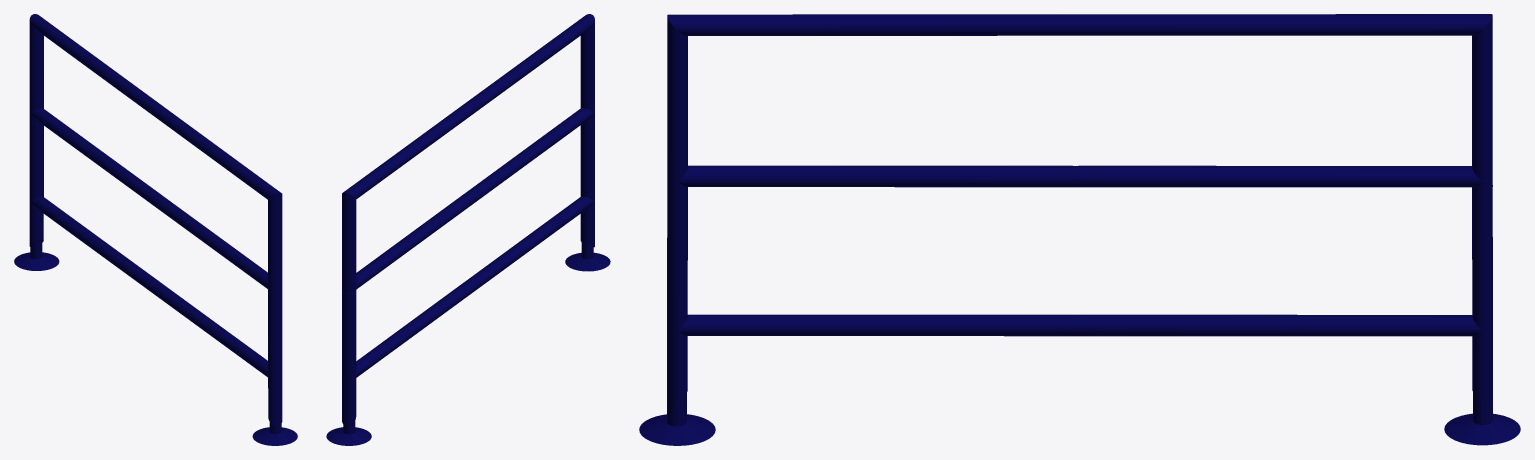
File: GradeMaquinaCartao2.obj
3 views of the same model, side by side, from view 1: azimuth 30°, elevation 25°; view 2: azimuth 150°, elevation 25°; view 3: azimuth 270°, elevation 25° (orthographic). The views are drawn at different scales.
Parts seen in each view (by area): view 1: Mesh.495_Mesh.029_Cylinder.002, Mesh.441_Mesh.029_Cylinder.001, Mesh.371_Mesh.063_Cylinder.002, Mesh.489_Mesh.050_Cylinder.001, Mesh.493_Mesh.050_Cylinder.005, Mesh.490_Mesh.063_Cylinder.003, Mesh.491_Mesh.050_Cylinder.002, Mesh.492_Mesh.050_Cylinder.004, Mesh.496_Mesh.137_Cone.002, Mesh.410_Mesh.137_Cone.001; view 2: Mesh.441_Mesh.029_Cylinder.001, Mesh.495_Mesh.029_Cylinder.002, Mesh.371_Mesh.063_Cylinder.002, Mesh.492_Mesh.050_Cylinder.004, Mesh.491_Mesh.050_Cylinder.002, Mesh.490_Mesh.063_Cylinder.003, Mesh.493_Mesh.050_Cylinder.005, Mesh.489_Mesh.050_Cylinder.001, Mesh.496_Mesh.137_Cone.002, Mesh.410_Mesh.137_Cone.001; view 3: Mesh.371_Mesh.063_Cylinder.002, Mesh.492_Mesh.050_Cylinder.004, Mesh.489_Mesh.050_Cylinder.001, Mesh.491_Mesh.050_Cylinder.002, Mesh.493_Mesh.050_Cylinder.005, Mesh.490_Mesh.063_Cylinder.003, Mesh.495_Mesh.029_Cylinder.002, Mesh.441_Mesh.029_Cylinder.001, Mesh.410_Mesh.137_Cone.001, Mesh.496_Mesh.137_Cone.002.
Part boxes in pixels (bbox=[...]): Mesh.495_Mesh.029_Cylinder.002: bbox=[268, 193, 282, 426]; Mesh.441_Mesh.029_Cylinder.001: bbox=[29, 15, 43, 246]; Mesh.371_Mesh.063_Cylinder.002: bbox=[29, 14, 164, 114]; Mesh.489_Mesh.050_Cylinder.001: bbox=[30, 196, 159, 290]; Mesh.493_Mesh.050_Cylinder.005: bbox=[30, 108, 159, 202]; Mesh.490_Mesh.063_Cylinder.003: bbox=[147, 108, 280, 199]; Mesh.491_Mesh.050_Cylinder.002: bbox=[146, 281, 268, 377]; Mesh.492_Mesh.050_Cylinder.004: bbox=[145, 193, 268, 288]; Mesh.496_Mesh.137_Cone.002: bbox=[252, 427, 297, 445]; Mesh.410_Mesh.137_Cone.001: bbox=[14, 252, 59, 270]; Mesh.441_Mesh.029_Cylinder.001: bbox=[342, 192, 356, 426]; Mesh.495_Mesh.029_Cylinder.002: bbox=[580, 21, 594, 247]; Mesh.371_Mesh.063_Cylinder.002: bbox=[343, 99, 478, 198]; Mesh.492_Mesh.050_Cylinder.004: bbox=[465, 108, 594, 206]; Mesh.491_Mesh.050_Cylinder.002: bbox=[465, 196, 593, 294]; Mesh.490_Mesh.063_Cylinder.003: bbox=[470, 14, 594, 113]; Mesh.493_Mesh.050_Cylinder.005: bbox=[342, 193, 477, 294]; Mesh.489_Mesh.050_Cylinder.001: bbox=[346, 281, 477, 382]; Mesh.496_Mesh.137_Cone.002: bbox=[565, 252, 610, 271]; Mesh.410_Mesh.137_Cone.001: bbox=[326, 427, 371, 445]; Mesh.371_Mesh.063_Cylinder.002: bbox=[1059, 14, 1492, 35]; Mesh.492_Mesh.050_Cylinder.004: bbox=[678, 165, 1098, 187]; Mesh.489_Mesh.050_Cylinder.001: bbox=[1070, 314, 1488, 336]; Mesh.491_Mesh.050_Cylinder.002: bbox=[678, 314, 1098, 336]; Mesh.493_Mesh.050_Cylinder.005: bbox=[1070, 165, 1492, 187]; Mesh.490_Mesh.063_Cylinder.003: bbox=[667, 14, 1089, 35]; Mesh.495_Mesh.029_Cylinder.002: bbox=[667, 17, 687, 409]; Mesh.441_Mesh.029_Cylinder.001: bbox=[1472, 16, 1492, 409]; Mesh.410_Mesh.137_Cone.001: bbox=[1444, 413, 1520, 445]; Mesh.496_Mesh.137_Cone.002: bbox=[639, 414, 715, 445].
Bounding box in the file's own units: 0.3679 × 2.2 × 4.23.
